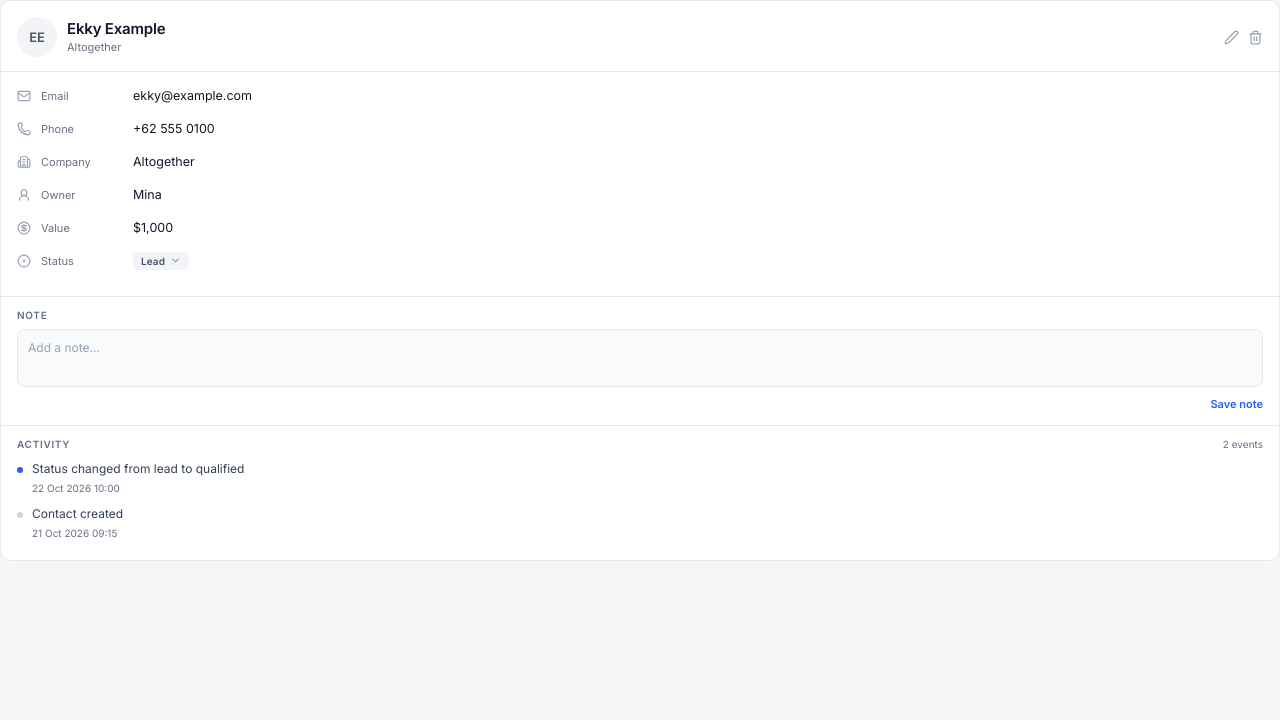
Scenario: ContactDetail › asks in a popup before deleting and sends nothing until confirmed
Click the button named "Delete contact". click: (1256, 37)
box: 1248,30 -> 1263,44
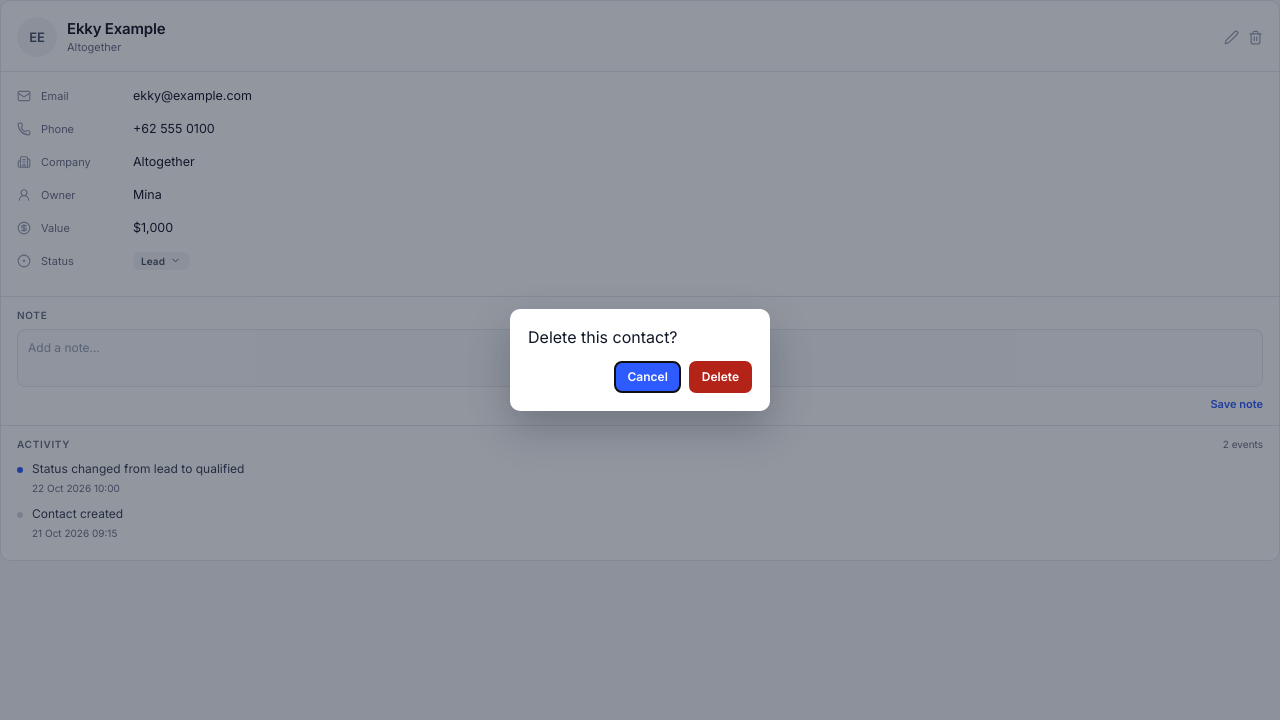
Check: the dialog "Delete this contact?" is shown, box 510,309 -> 770,411
